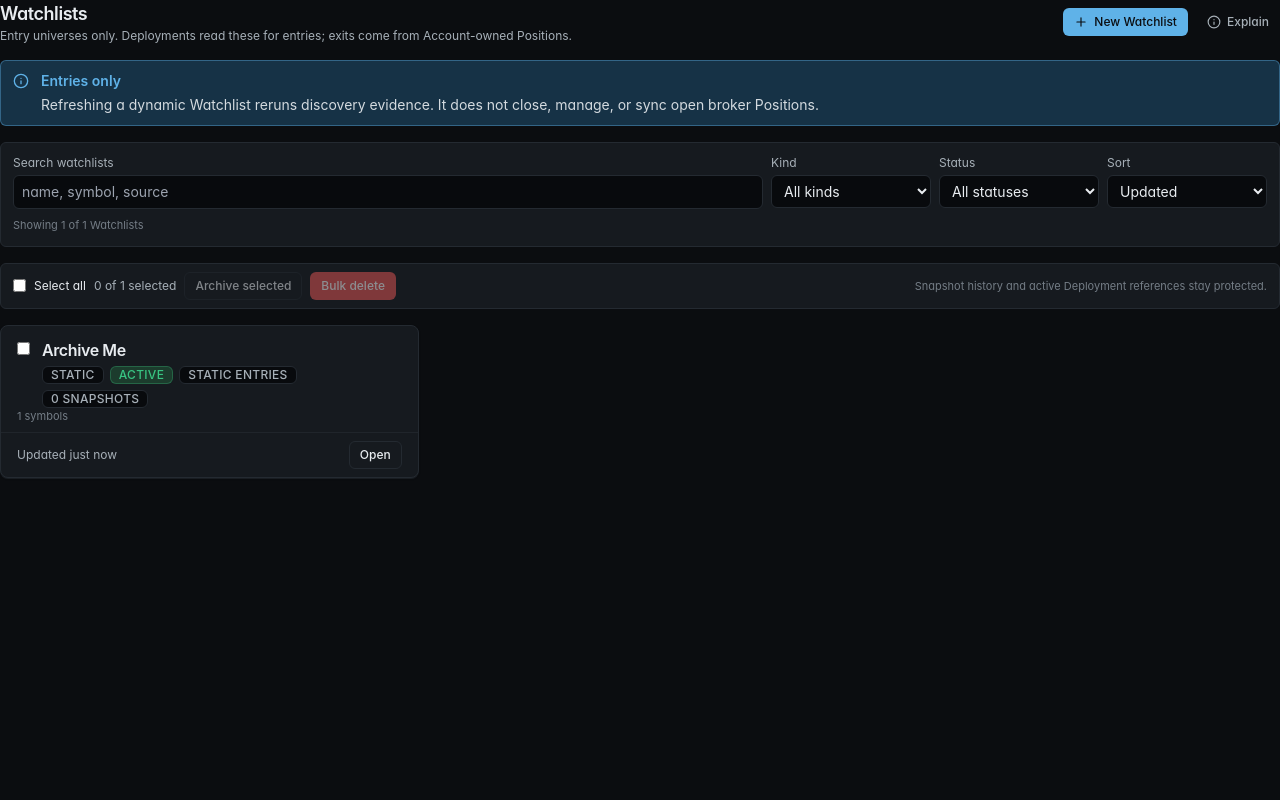
it: <Watchlists /> › bulk archives selected watchlists through the safe history-preserving path
expect the text "Archive Me" is shown: met, box [42,340,126,360]
Click the checkbox named "Select watchlist Archive Me": (24, 348) [17,342,30,354]
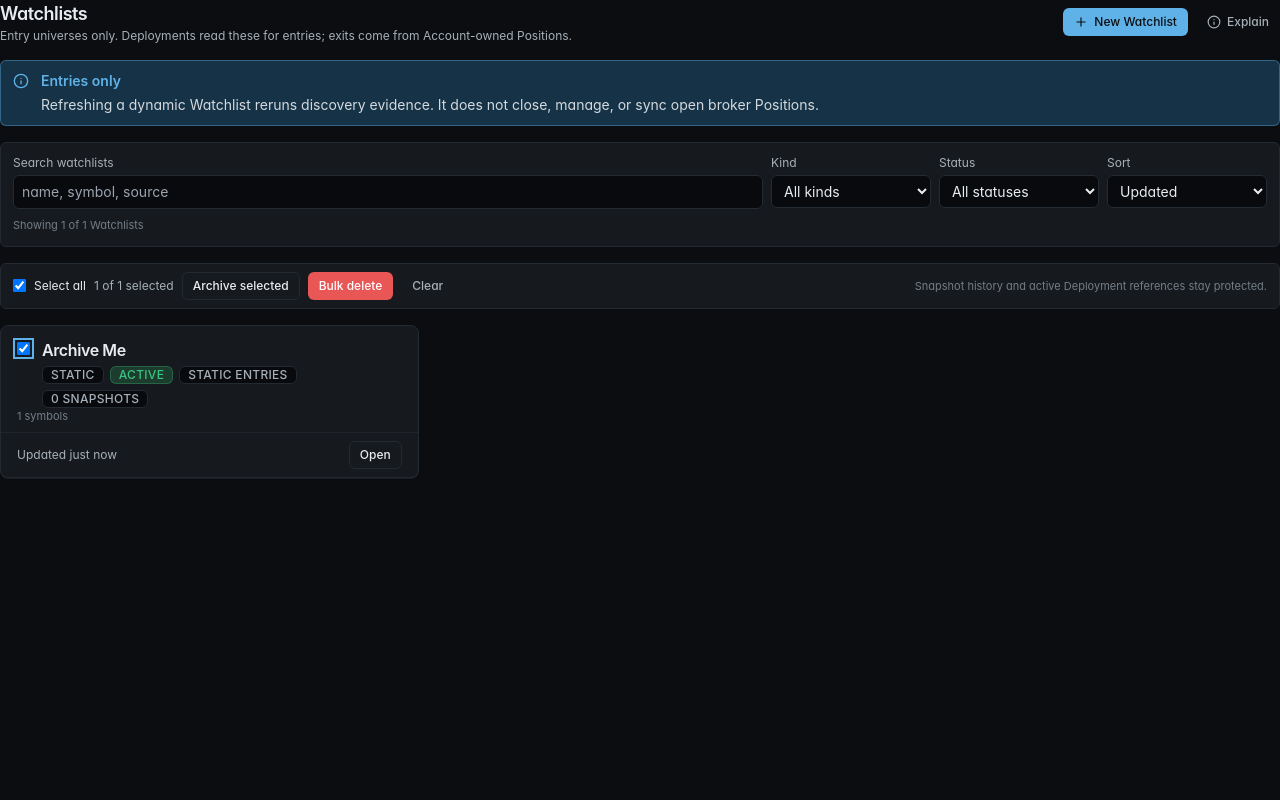
Click the button "Archive selected": (241, 286) [182,272,300,300]
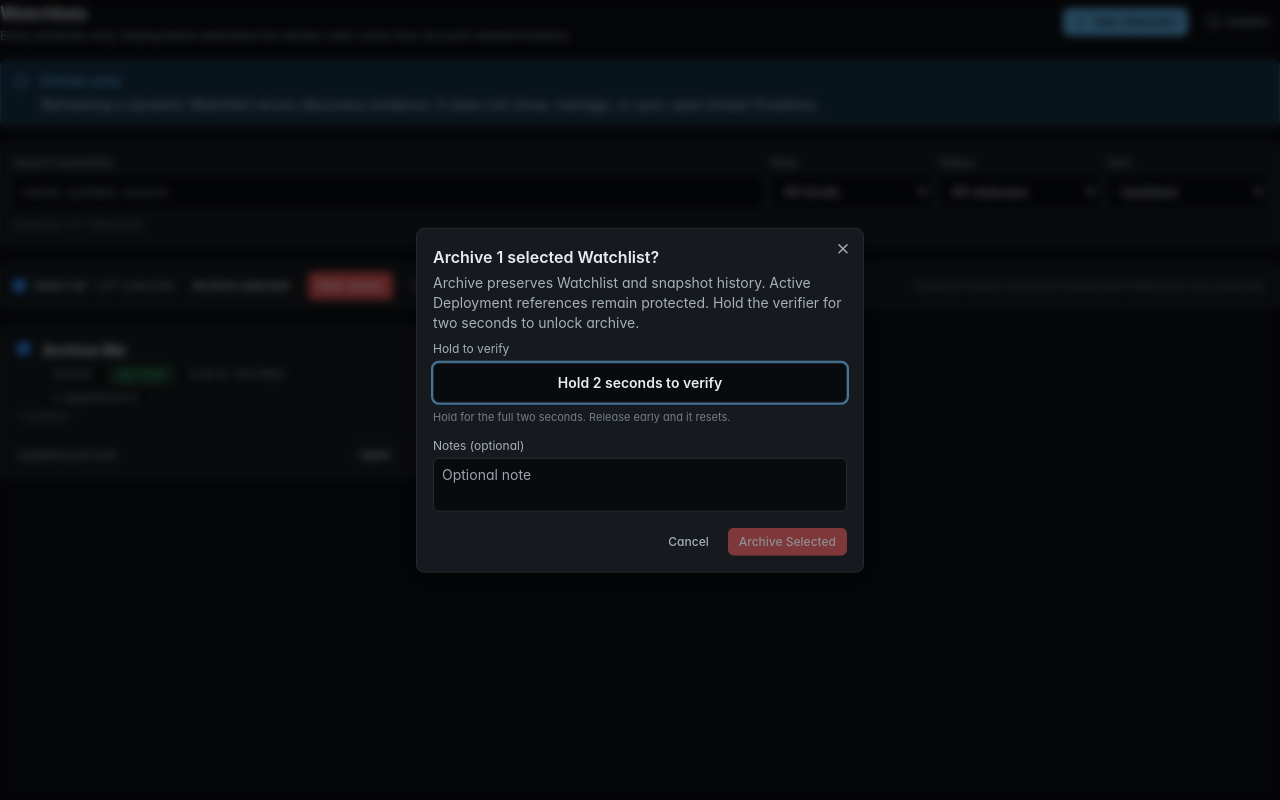
Press the mouse on the button "Hold 2 seconds to verify": (640, 383) [433,363,847,403]
Wait 2000 ms
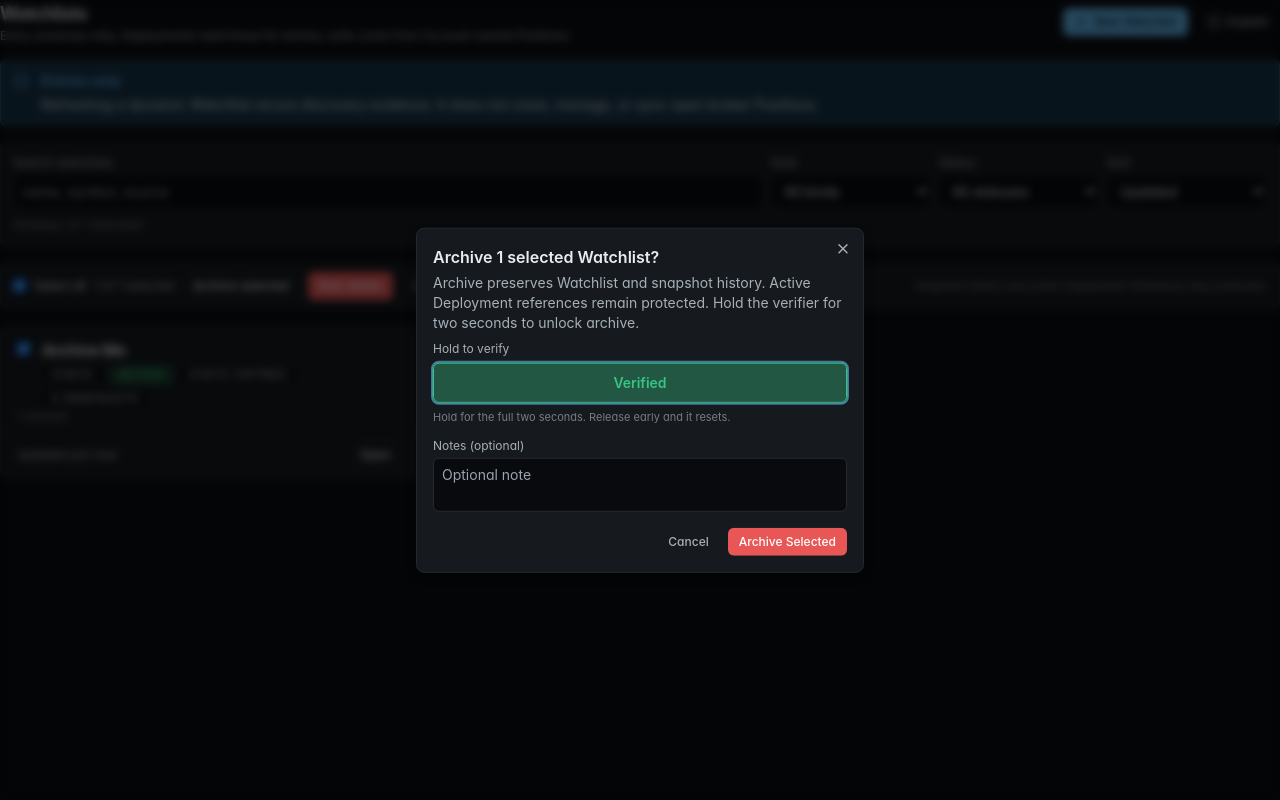
Click the button "Archive Selected": (787, 541) [728,527,847,555]
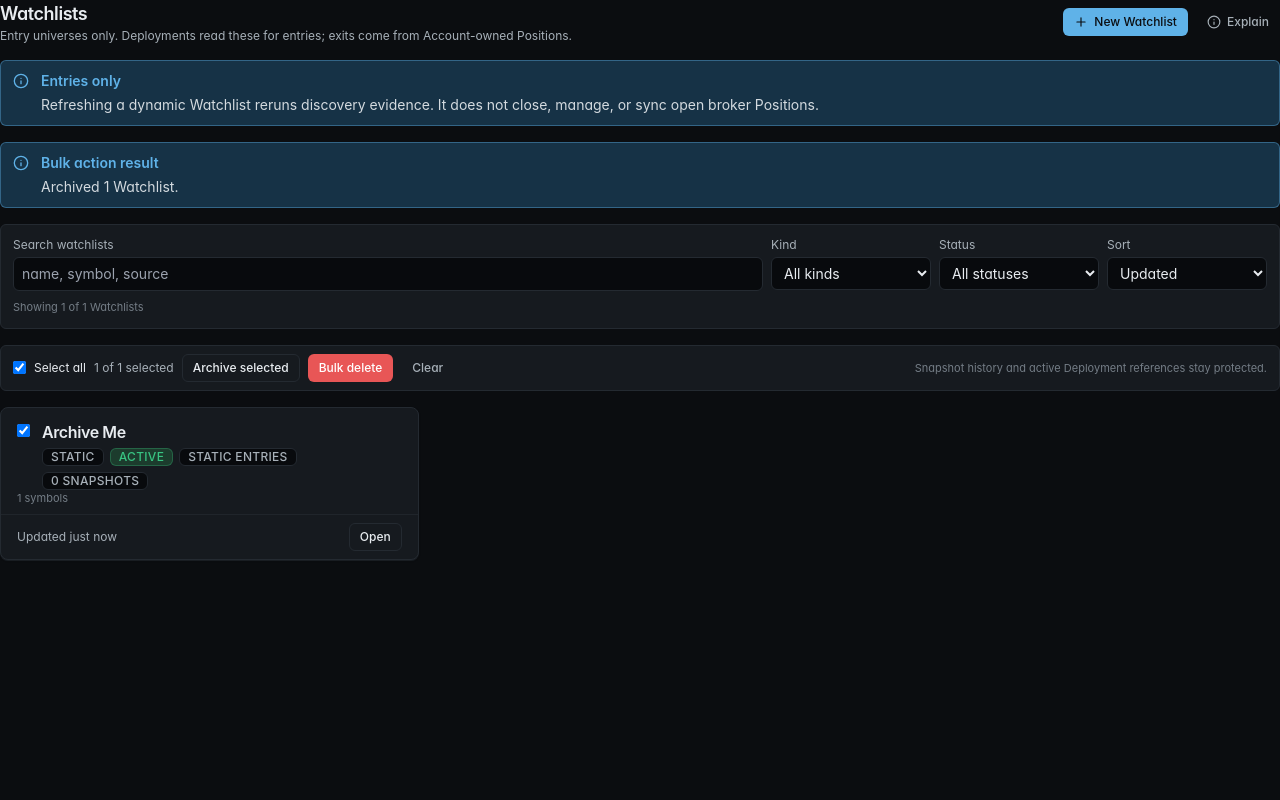
expect the text "Archived 1 Watchlist." is shown: met, box [41,178,178,195]
